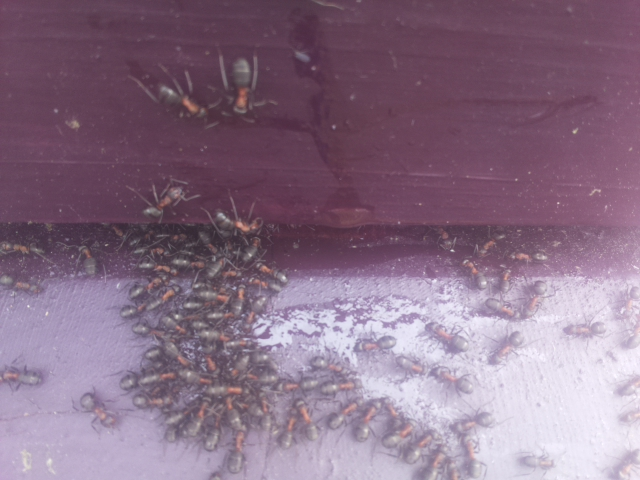ant: (150, 65, 217, 133), (116, 359, 184, 420), (133, 176, 194, 226), (73, 382, 125, 439), (217, 58, 266, 116), (416, 313, 474, 360), (204, 202, 267, 244), (115, 284, 185, 321), (167, 394, 215, 446), (292, 389, 324, 449), (252, 255, 294, 297), (321, 393, 365, 433), (380, 411, 419, 454), (277, 397, 304, 454), (0, 237, 54, 265), (0, 269, 50, 299), (456, 256, 494, 295), (470, 226, 511, 260), (224, 428, 251, 479), (433, 366, 477, 397), (493, 326, 523, 368), (458, 436, 485, 480), (308, 353, 353, 379), (240, 292, 272, 328), (74, 239, 102, 280), (352, 401, 379, 442), (352, 333, 400, 356), (0, 364, 45, 387), (453, 411, 499, 433), (524, 277, 548, 318), (615, 284, 640, 319), (407, 431, 434, 463), (516, 450, 560, 469), (484, 296, 517, 321), (316, 380, 360, 394)
